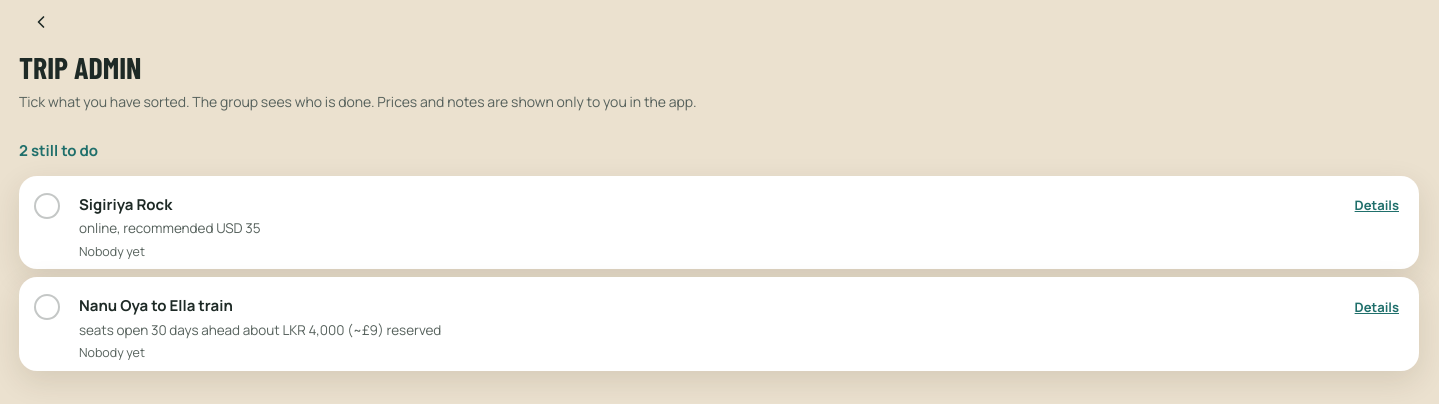
Scenario: TripAdmin › ticking saves my entry and the count drops
Expected: the message reads "2 still to do", [19,140,98,161]
Step 1. Click the checkbox named "Sigiriya Rock" → (47, 206), box [25,184,69,228]
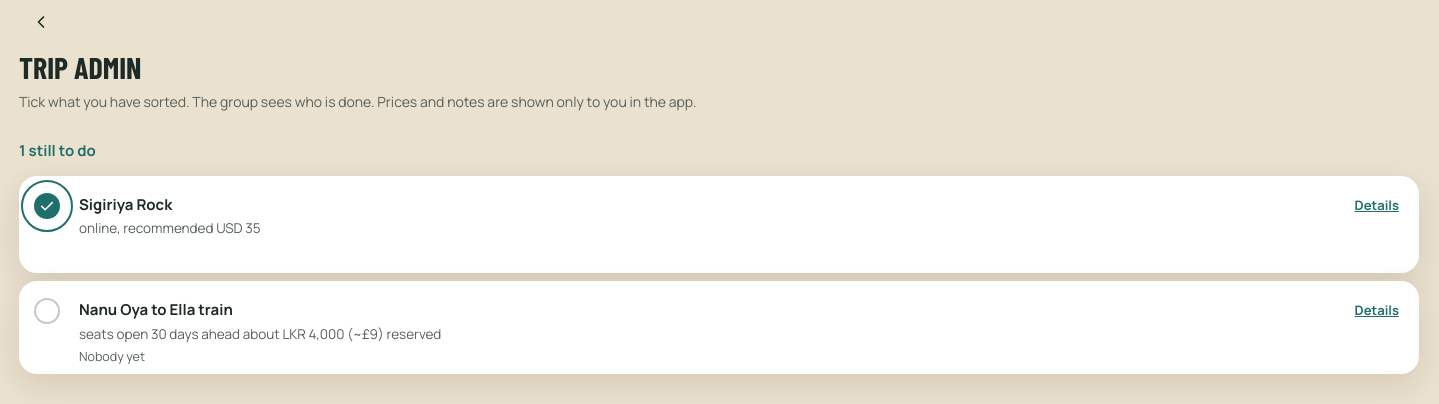
Expected: the message reads "1 still to do", [19,140,96,161]
